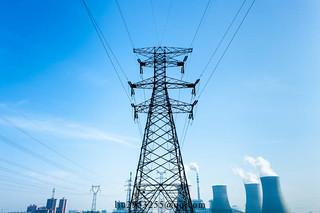power_tower: (116, 40, 203, 213)
